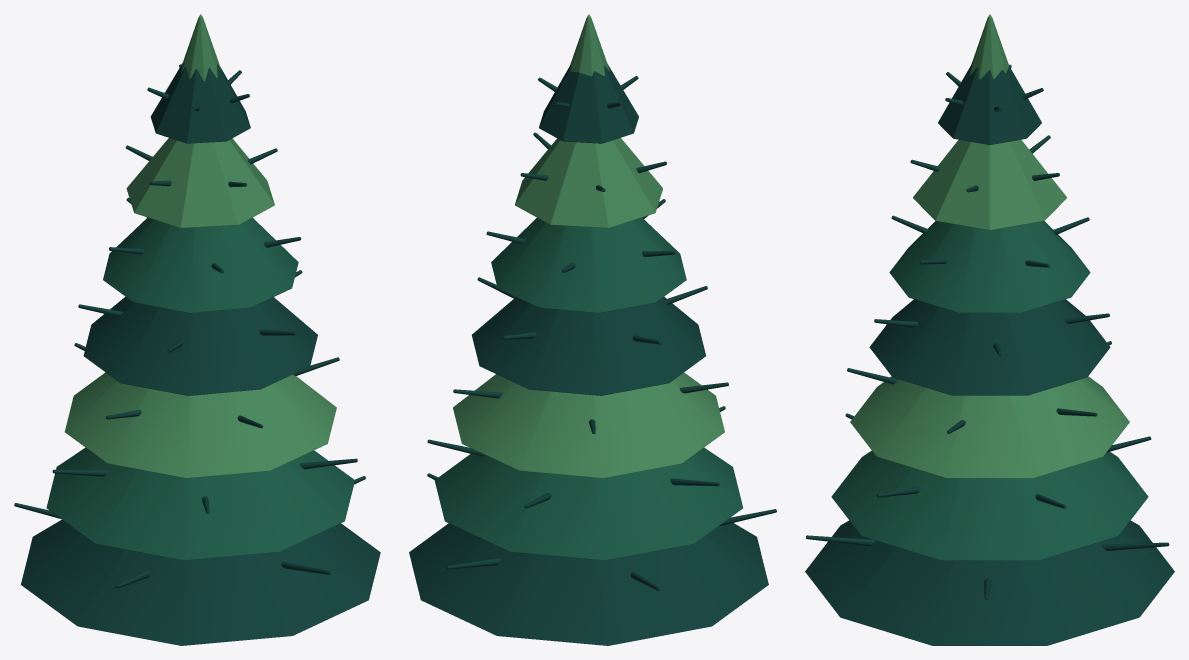
The model's file is tree_pine.glb.
3 views of the same model, side by side, from view 1: azimuth 30°, elevation 25°; view 2: azimuth 150°, elevation 25°; view 3: azimuth 270°, elevation 25° (orthographic).
Visible parts, largest first — view 1: Tall tapered pine trunk.001; view 2: Tall tapered pine trunk.001; view 3: Tall tapered pine trunk.001.
Part boxes in pixels (bbox=[...]): Tall tapered pine trunk.001: bbox=[14, 14, 380, 645]; Tall tapered pine trunk.001: bbox=[409, 14, 776, 645]; Tall tapered pine trunk.001: bbox=[805, 14, 1174, 645].
Bounding box in the file's own units: 4.52 × 8.23 × 4.58.
